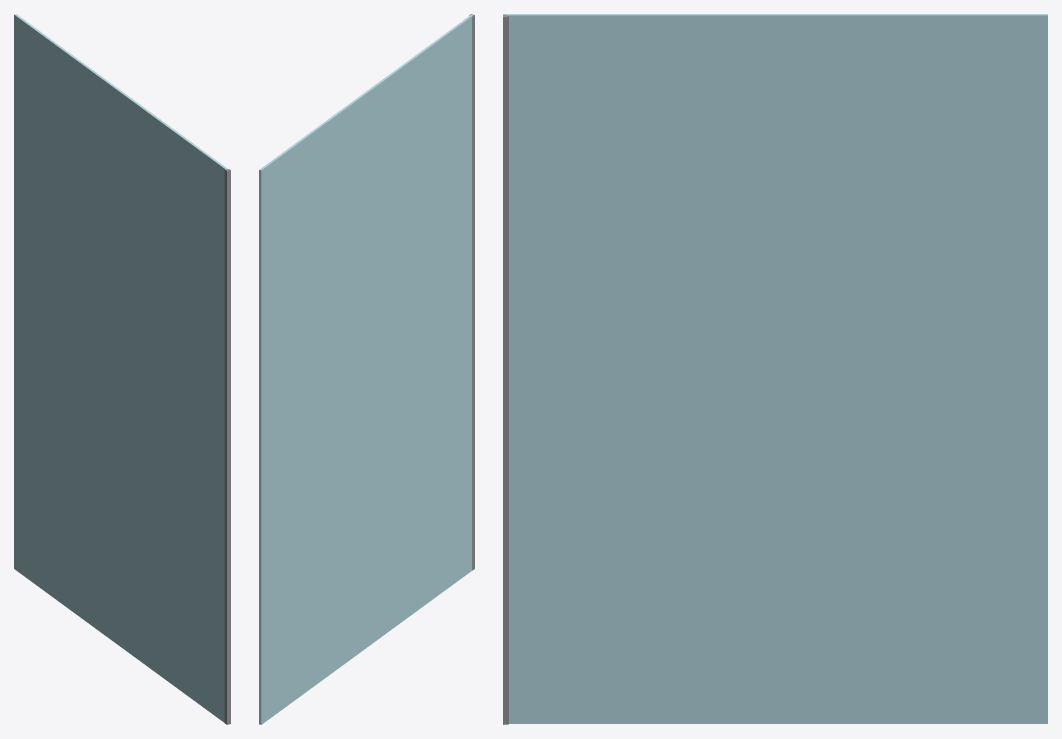
The model's file is Dusche_Seitenwand.glb.
3 renders of one model, left to right at view 1: azimuth 30°, elevation 25°; view 2: azimuth 150°, elevation 25°; view 3: azimuth 270°, elevation 25°, orthographic. The views are drawn at different scales.
Visible parts, largest first — view 1: Mesh1 Component_111 G_14_Dusche_Seitenwand_dwg1 Model, Mesh3 Component_112 G_14_Dusche_Seitenwand_dwg1 Model; view 2: Mesh1 Component_111 G_14_Dusche_Seitenwand_dwg1 Model, Mesh3 Component_112 G_14_Dusche_Seitenwand_dwg1 Model; view 3: Mesh1 Component_111 G_14_Dusche_Seitenwand_dwg1 Model, Mesh3 Component_112 G_14_Dusche_Seitenwand_dwg1 Model.
Part boxes in pixels (x1,y1,x2,y2): Mesh1 Component_111 G_14_Dusche_Seitenwand_dwg1 Model: [14, 14, 227, 722]; Mesh3 Component_112 G_14_Dusche_Seitenwand_dwg1 Model: [224, 169, 230, 724]; Mesh1 Component_111 G_14_Dusche_Seitenwand_dwg1 Model: [259, 15, 472, 724]; Mesh3 Component_112 G_14_Dusche_Seitenwand_dwg1 Model: [469, 14, 474, 570]; Mesh1 Component_111 G_14_Dusche_Seitenwand_dwg1 Model: [506, 14, 1047, 723]; Mesh3 Component_112 G_14_Dusche_Seitenwand_dwg1 Model: [503, 14, 508, 724].
Size of the model in its own units: 1.7 by 230 by 160.
